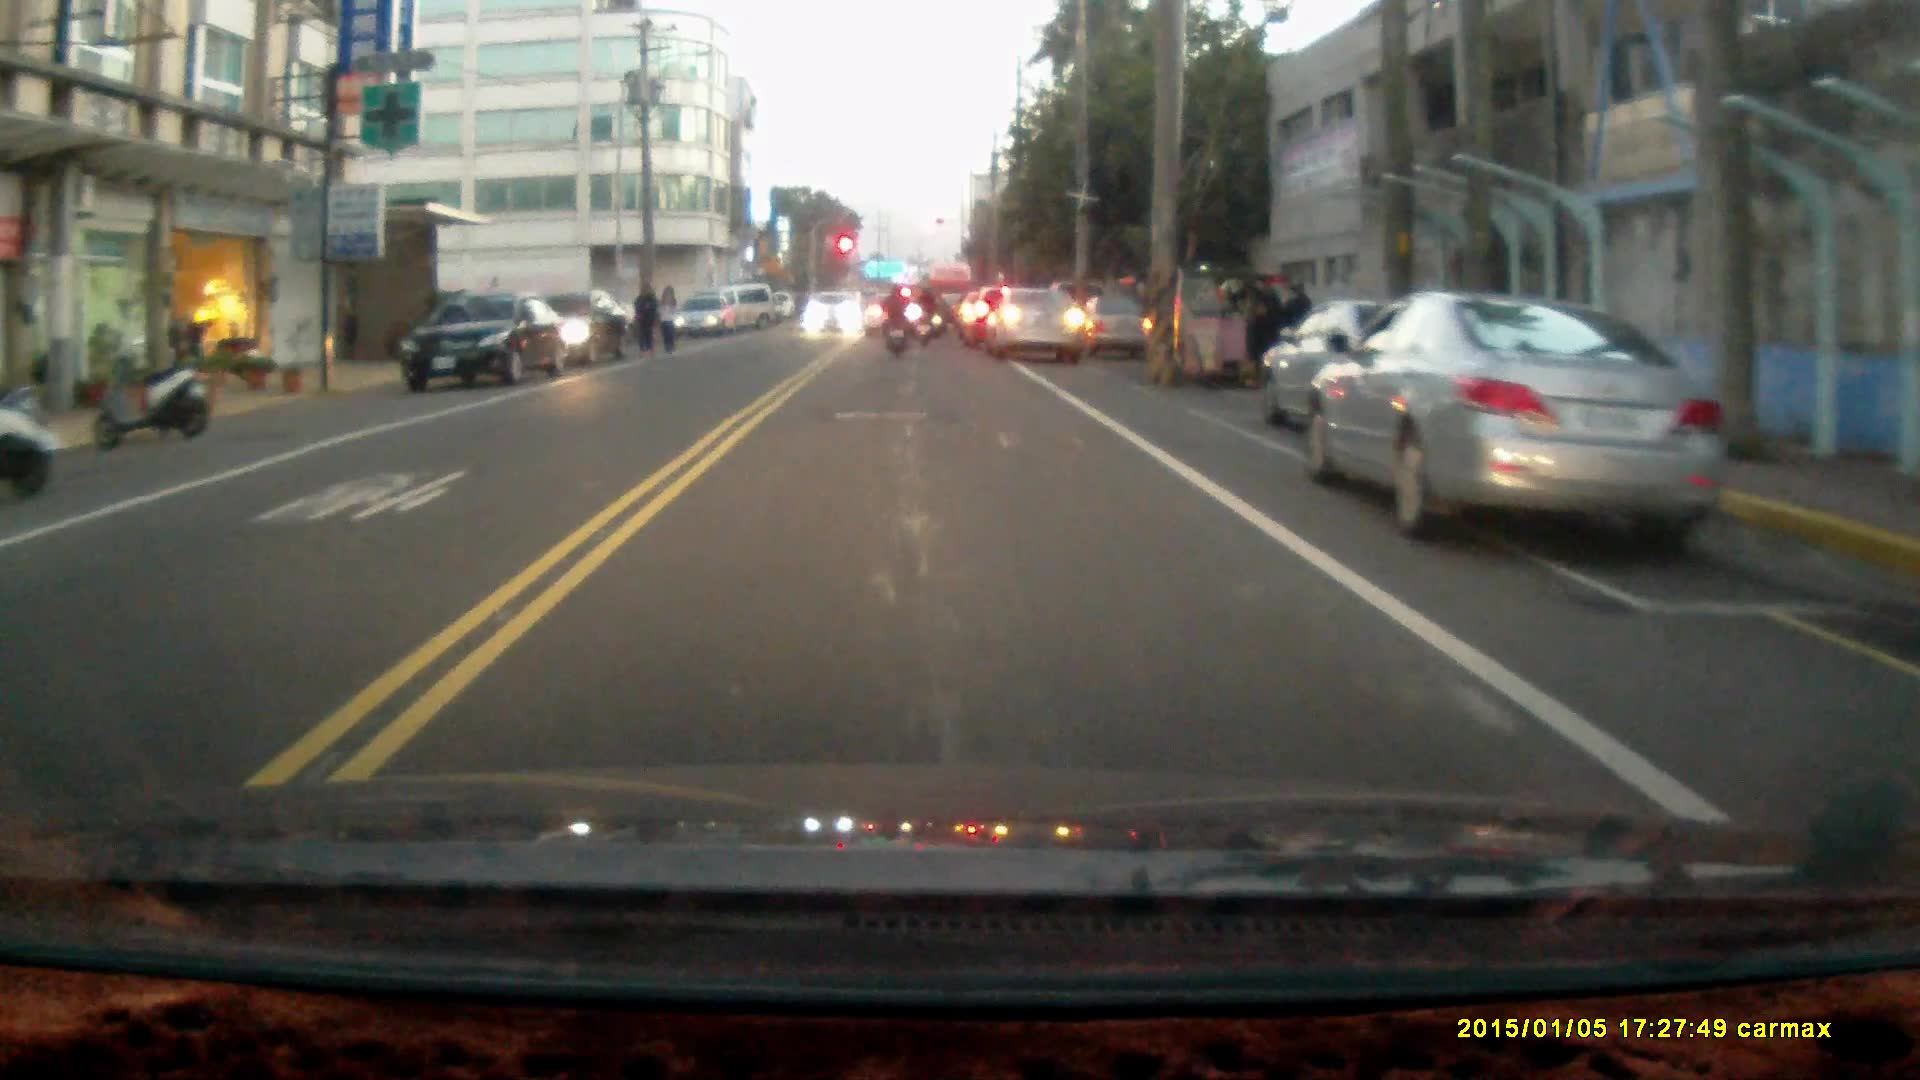pedestrian: (1278, 278, 1314, 370), (631, 279, 661, 360), (657, 282, 679, 359)
rider: (877, 282, 910, 357), (910, 284, 938, 349)
vehicle: (1304, 292, 1719, 553), (1129, 268, 1275, 388), (405, 289, 572, 393), (988, 285, 1091, 364), (803, 294, 861, 341), (675, 295, 735, 340)
